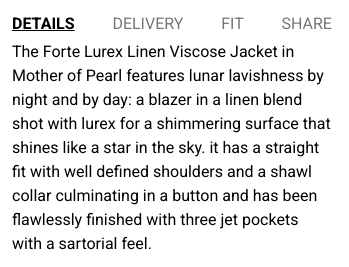
Test case: ProductDetail /> › should change content when a tab is selected
Click the list item "Delivery" at (148, 24), box top-left (112, 12), bottom-right (183, 36)
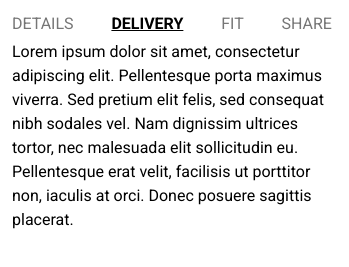
Expected: the text "Lorem ipsum dolor sit amet, consectetur adipiscing elit. Pellentesque porta maximus viverra. Sed pretium elit felis, sed" is shown
